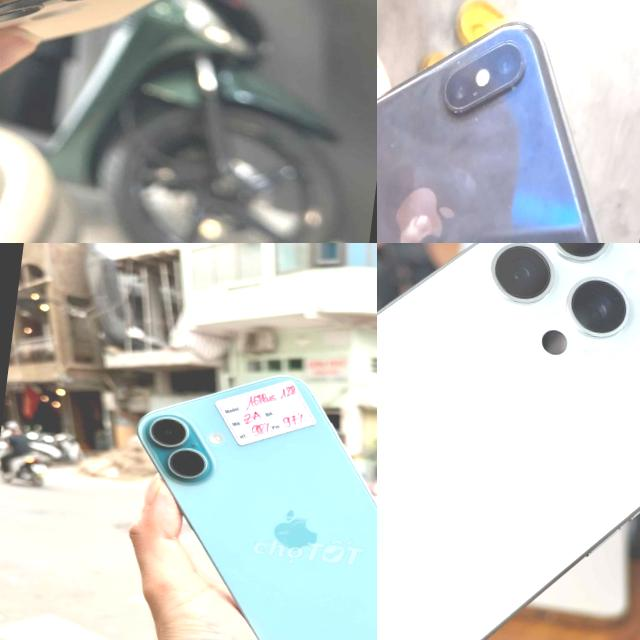scratch: (377, 129, 413, 163), (506, 68, 522, 106), (464, 105, 486, 132), (511, 51, 528, 76), (452, 53, 464, 73)
